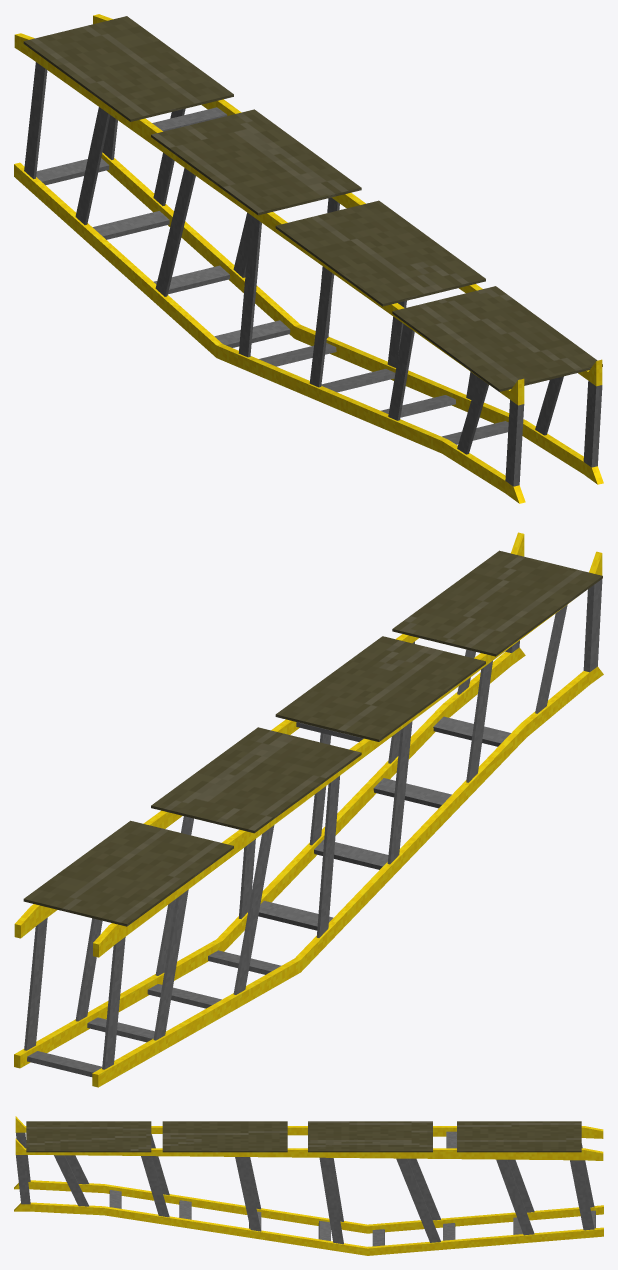
File: Crane.fbx
3 renders of one model, top to bottom at view 1: azimuth 30°, elevation 25°; view 2: azimuth 150°, elevation 25°; view 3: azimuth 270°, elevation 25°, orthographic. The views are drawn at different scales.
Visible parts, largest first — view 1: Cylinder.005, pCube2, pCube3, pCube1, pCube4; view 2: Cylinder.005, pCube2, pCube3, pCube1, pCube4; view 3: Cylinder.005, pCube3, pCube4, pCube1, pCube2.
Part boxes in pixels (bbox=[...]): Cylinder.005: bbox=[14, 14, 603, 503]; pCube2: bbox=[151, 109, 361, 215]; pCube3: bbox=[275, 200, 485, 306]; pCube1: bbox=[23, 16, 233, 121]; pCube4: bbox=[392, 286, 602, 391]; Cylinder.005: bbox=[14, 532, 603, 1087]; pCube2: bbox=[151, 727, 361, 833]; pCube3: bbox=[275, 636, 485, 741]; pCube1: bbox=[23, 820, 233, 926]; pCube4: bbox=[392, 550, 602, 656]; Cylinder.005: bbox=[14, 1116, 603, 1255]; pCube3: bbox=[162, 1121, 287, 1152]; pCube4: bbox=[26, 1121, 151, 1152]; pCube1: bbox=[457, 1121, 581, 1152]; pCube2: bbox=[308, 1121, 432, 1152].
Size of the model in its own units: 1.77 by 3.25 by 14.99.
